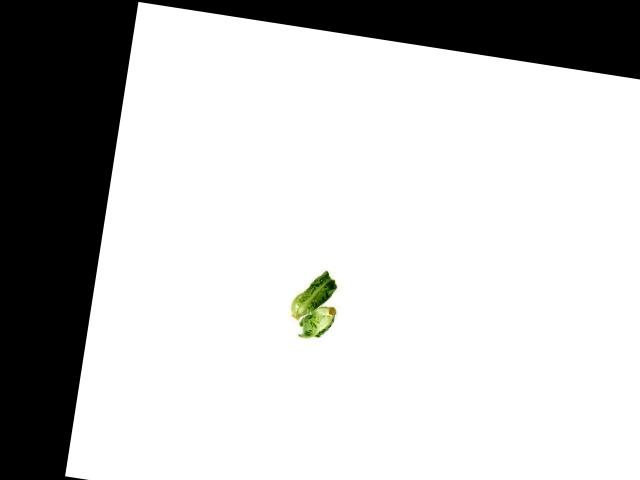lettuce: (296, 299, 342, 344)
